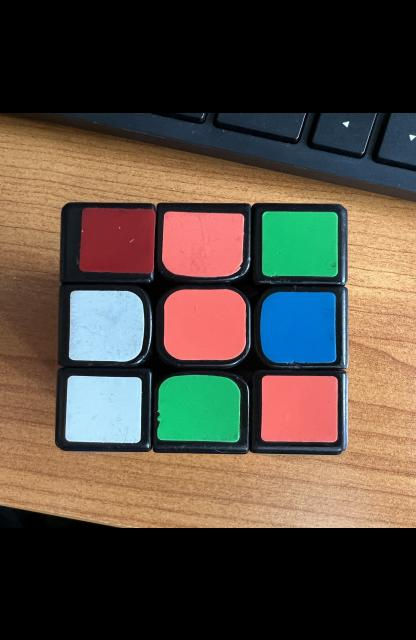Blue: (260, 291, 337, 362)
Green: (157, 374, 240, 441), (262, 211, 338, 276)
Orange: (163, 289, 247, 359), (162, 211, 244, 277), (260, 374, 338, 441)
Red: (79, 206, 156, 272)
White: (68, 290, 144, 361), (66, 374, 142, 442)
